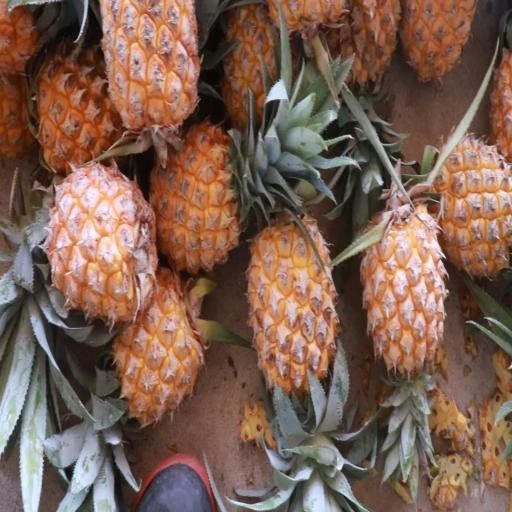Pineapple - v8 v1: (246, 210, 340, 427), (44, 158, 158, 322), (143, 115, 254, 278), (360, 192, 451, 381), (111, 267, 208, 437), (100, 0, 203, 140), (32, 32, 138, 168), (432, 127, 511, 284)
